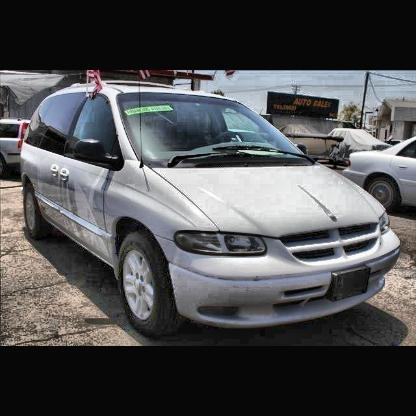Dodge Caravan Minivan 1997: (21, 77, 404, 330)
